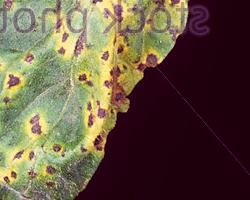Tomato Septoria leaf spot: (0, 0, 209, 200)
